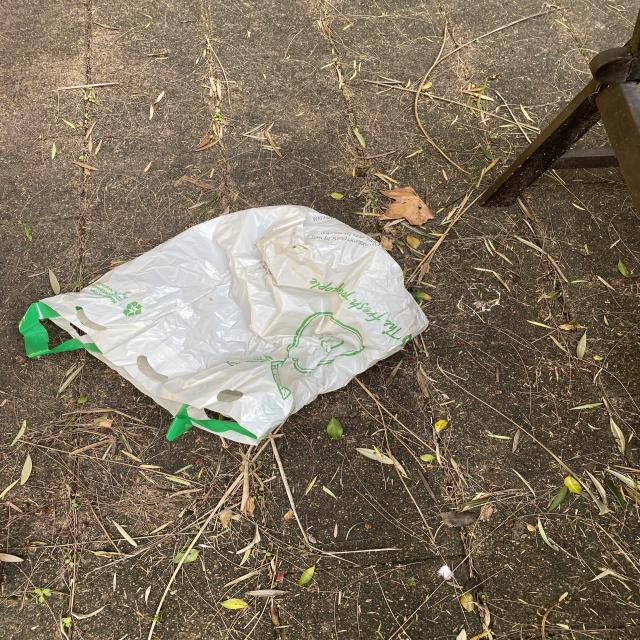bag: (19, 203, 429, 447)
